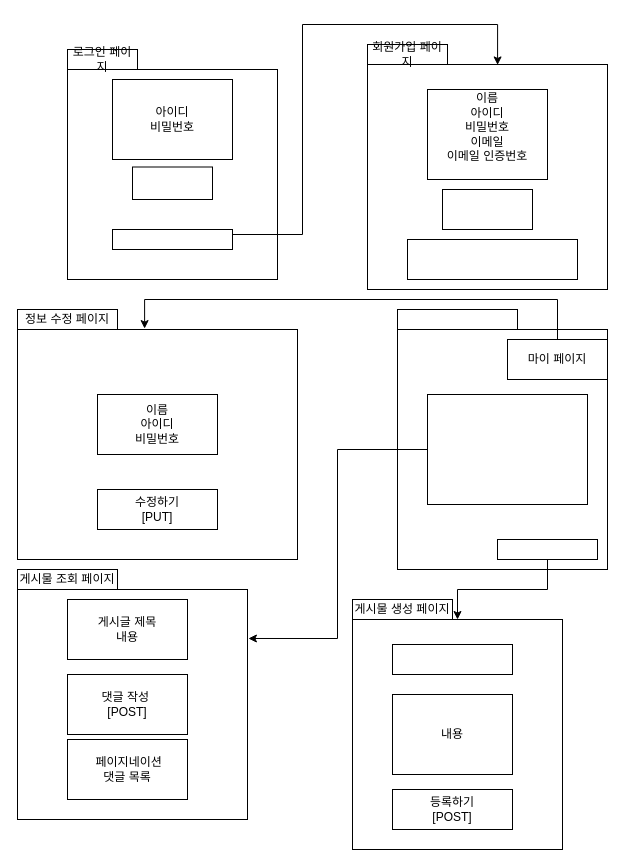
This 625x867 diagram has some shape labels left out. Each missing label, with the box of its shape:
[GET] 페이지네이션 번호, 제목, 작성자, 생성일, 댓글 수, 좋아요 수: (426, 394, 588, 504)
[체크박스] Admin <admin jwt token 사용>: (406, 238, 578, 280)
로그인 [POST]: (132, 166, 212, 200)
새 게시물 작성: (496, 538, 598, 560)
전체 게시물 조회 페이지: (396, 308, 518, 330)
제목: (392, 644, 512, 674)
회원가입: (112, 228, 232, 250)
회원가입 [POST]: (442, 188, 532, 230)
